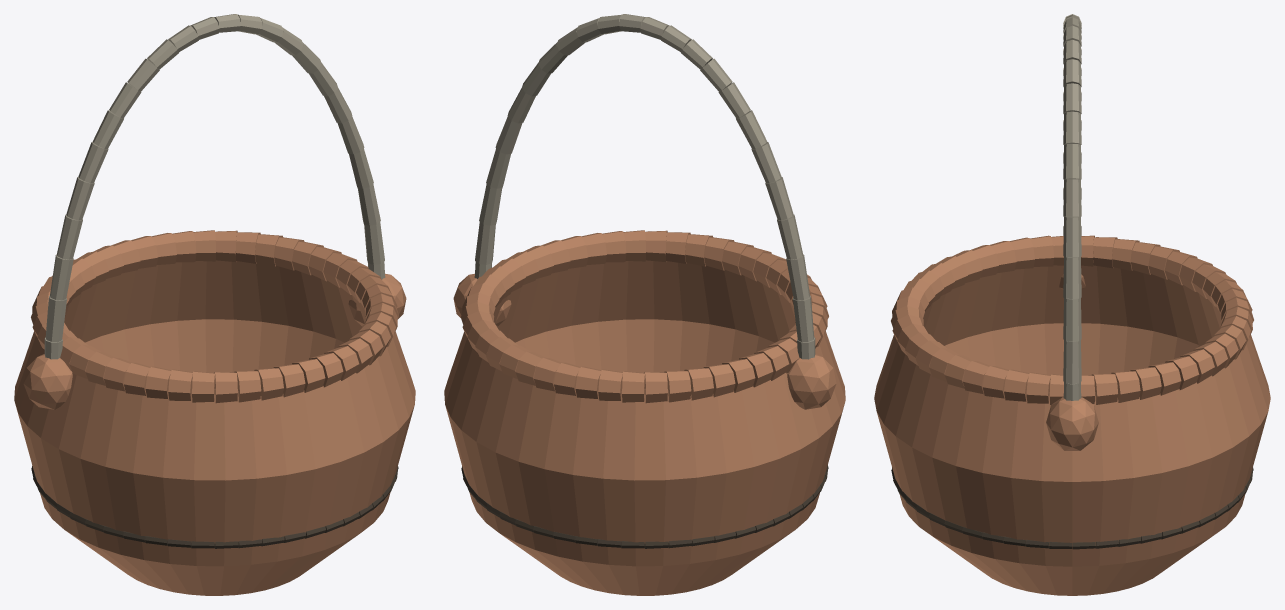
3 views of the same model, side by side, from view 1: azimuth 30°, elevation 25°; view 2: azimuth 150°, elevation 25°; view 3: azimuth 270°, elevation 25° (orthographic).
Parts seen in each view (by area): view 1: GF-193 Open bail-handled cooking pot batched; view 2: GF-193 Open bail-handled cooking pot batched; view 3: GF-193 Open bail-handled cooking pot batched.
Boxes of the visible parts, x1=… form: GF-193 Open bail-handled cooking pot batched: x1=14, y1=14, x2=415, y2=595; GF-193 Open bail-handled cooking pot batched: x1=444, y1=14, x2=845, y2=595; GF-193 Open bail-handled cooking pot batched: x1=874, y1=14, x2=1270, y2=595.
Size of the model in its own units: 0.6456 by 0.8839 by 0.6.
